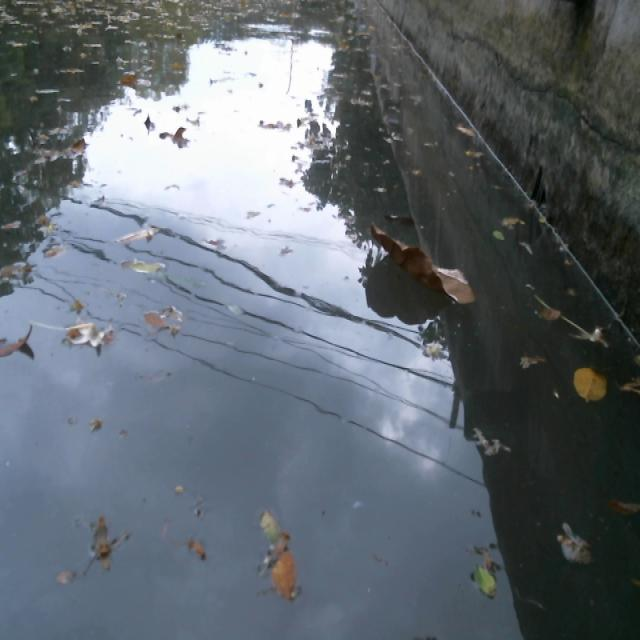Big-leaf: (365, 215, 479, 309)
Small-leaf: (267, 543, 304, 606), (64, 318, 117, 357), (569, 359, 612, 407), (552, 528, 599, 568), (0, 316, 34, 364), (88, 511, 116, 568), (468, 558, 505, 601), (118, 253, 169, 280), (255, 498, 282, 546), (601, 486, 640, 517), (114, 221, 162, 244), (1, 256, 34, 286), (454, 119, 482, 147), (532, 302, 566, 325), (158, 124, 192, 147), (62, 134, 88, 163), (140, 306, 167, 329), (501, 210, 528, 233), (517, 353, 549, 372), (0, 212, 25, 233), (116, 67, 139, 87), (225, 301, 245, 321), (488, 225, 506, 243), (46, 243, 67, 258)
